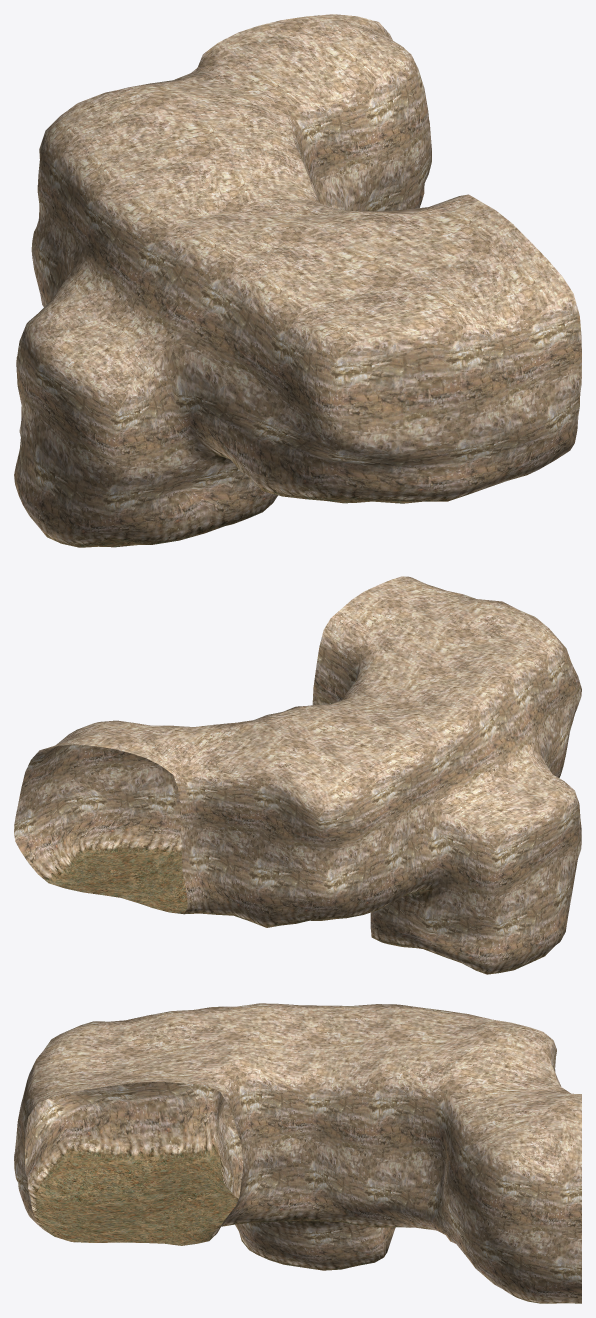
File: thm_all_cave_s01_mirror_r4_mesh_r4.fbx
3 views of the same model, one above another, from view 1: azimuth 30°, elevation 25°; view 2: azimuth 150°, elevation 25°; view 3: azimuth 270°, elevation 25° (orthographic). The views are drawn at different scales.
Visible parts, largest first — view 1: mesh_node; view 2: mesh_node; view 3: mesh_node.
Boxes of the visible parts, x1,y1,x2,y2 form: mesh_node: [14, 14, 581, 547]; mesh_node: [14, 576, 581, 974]; mesh_node: [14, 1003, 581, 1303].
Bounding box in the file's own units: 59.37 × 33.41 × 66.82.
